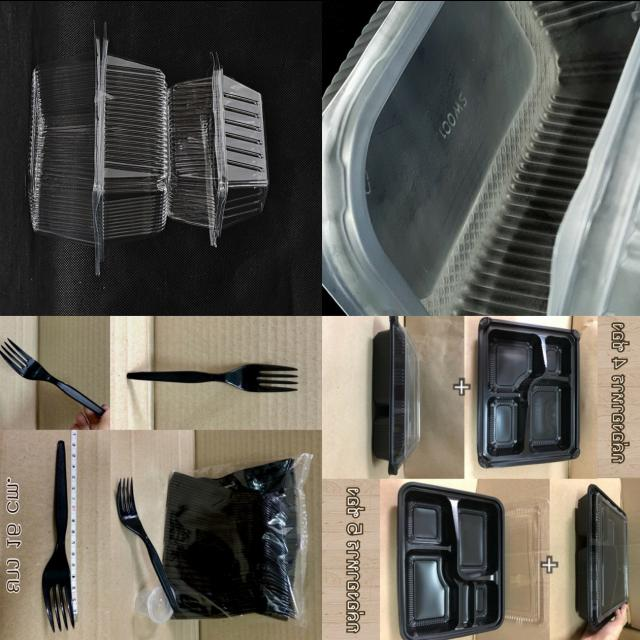plastik: (323, 0, 640, 314), (29, 25, 170, 273), (168, 53, 269, 244), (398, 483, 504, 640), (478, 316, 580, 467), (116, 477, 178, 611), (0, 338, 105, 415), (373, 315, 420, 474), (577, 484, 628, 630), (43, 439, 74, 630), (126, 363, 298, 391)
